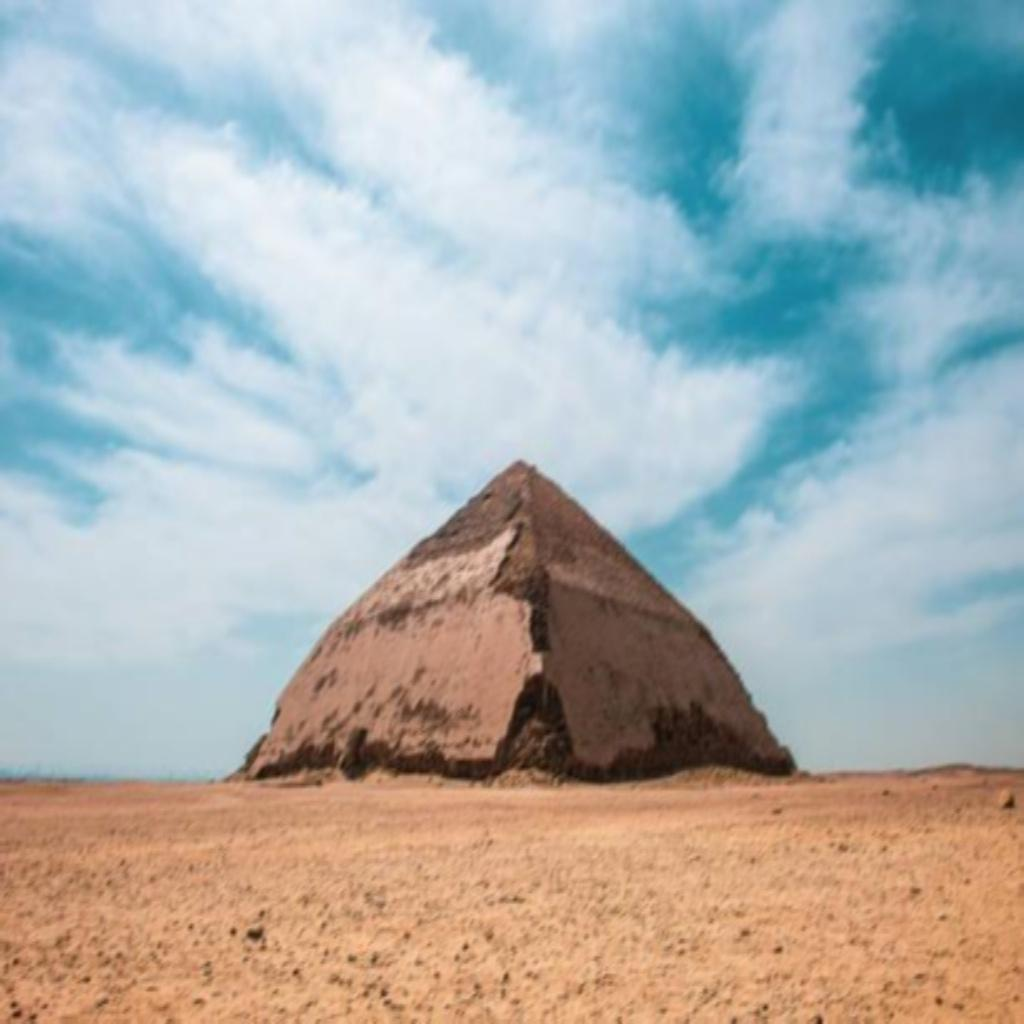Bent Pyramid of King Sneferu: (228, 454, 798, 788)
